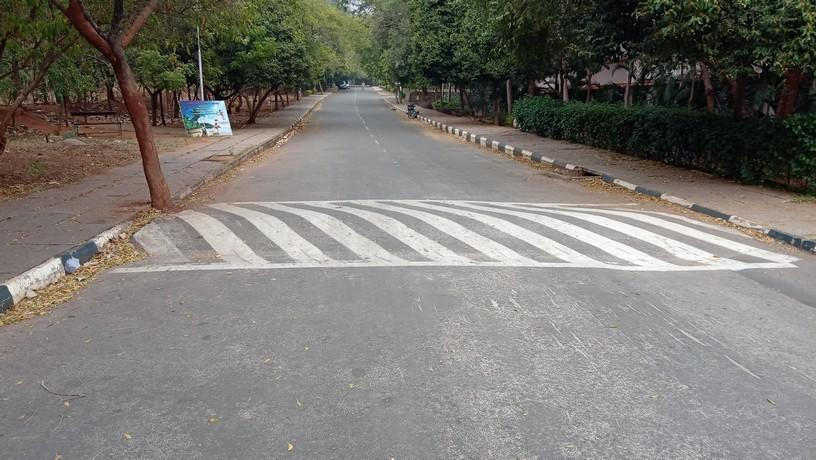speed-bump: (99, 198, 796, 275)
